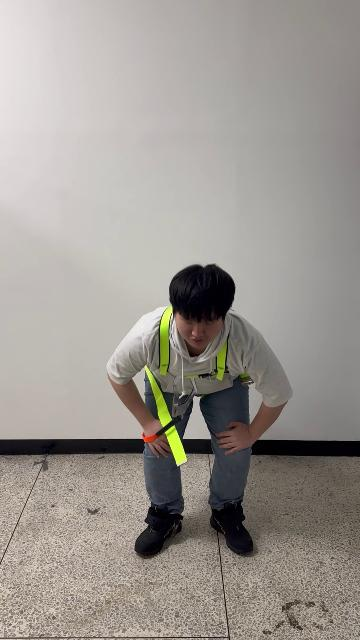helmet_not_worn: (168, 262, 237, 326)
shoe_worn: (134, 505, 183, 555), (210, 502, 252, 554)
vest_worn: (144, 307, 242, 464)
